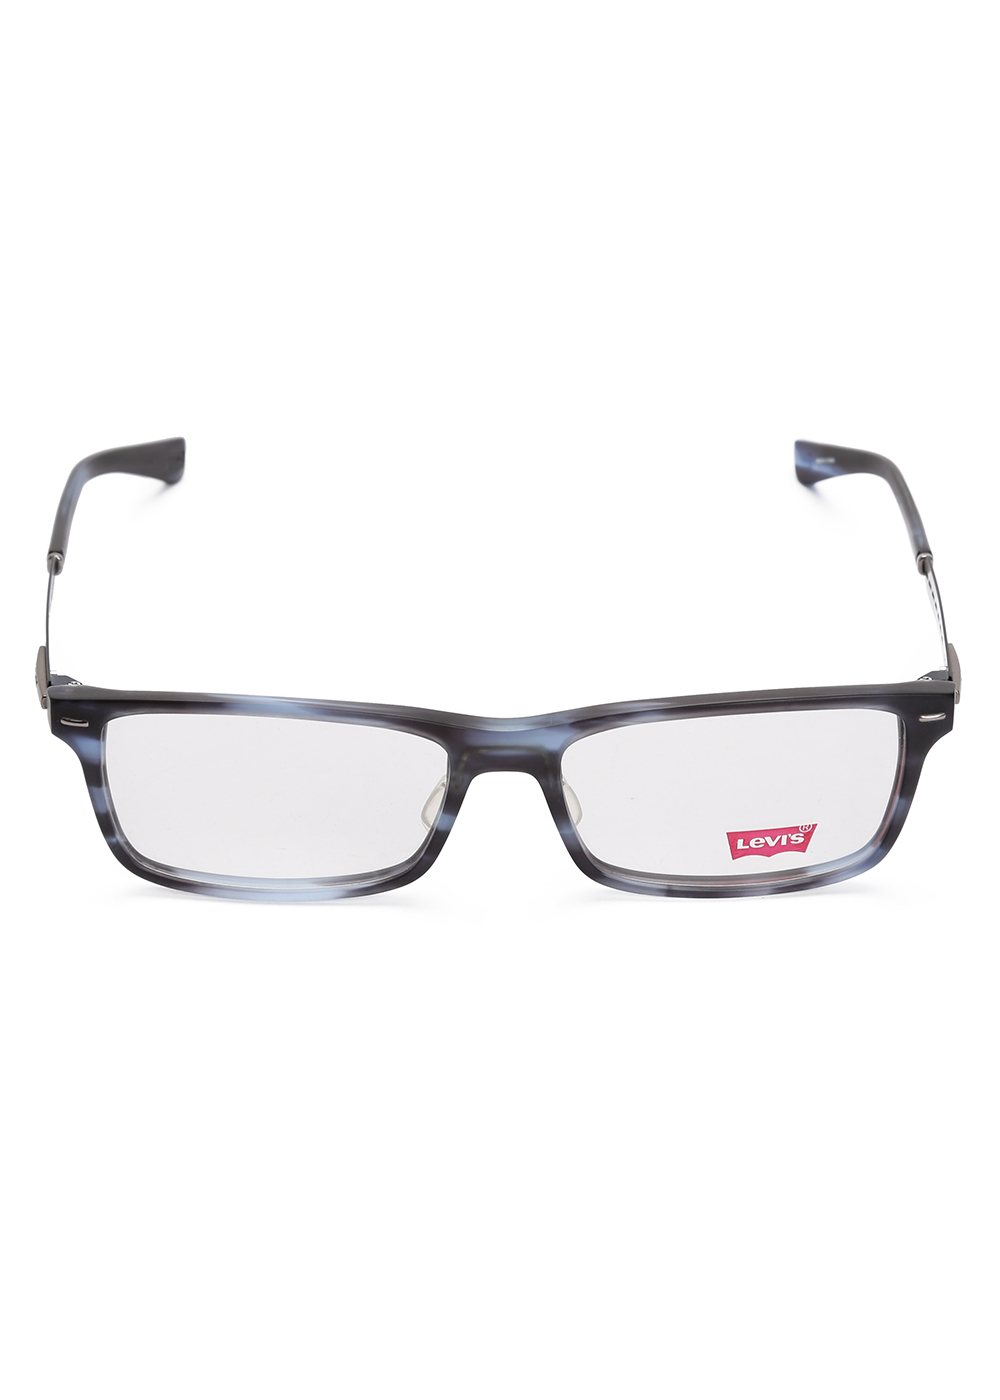Levi's: (709, 814, 824, 863)
